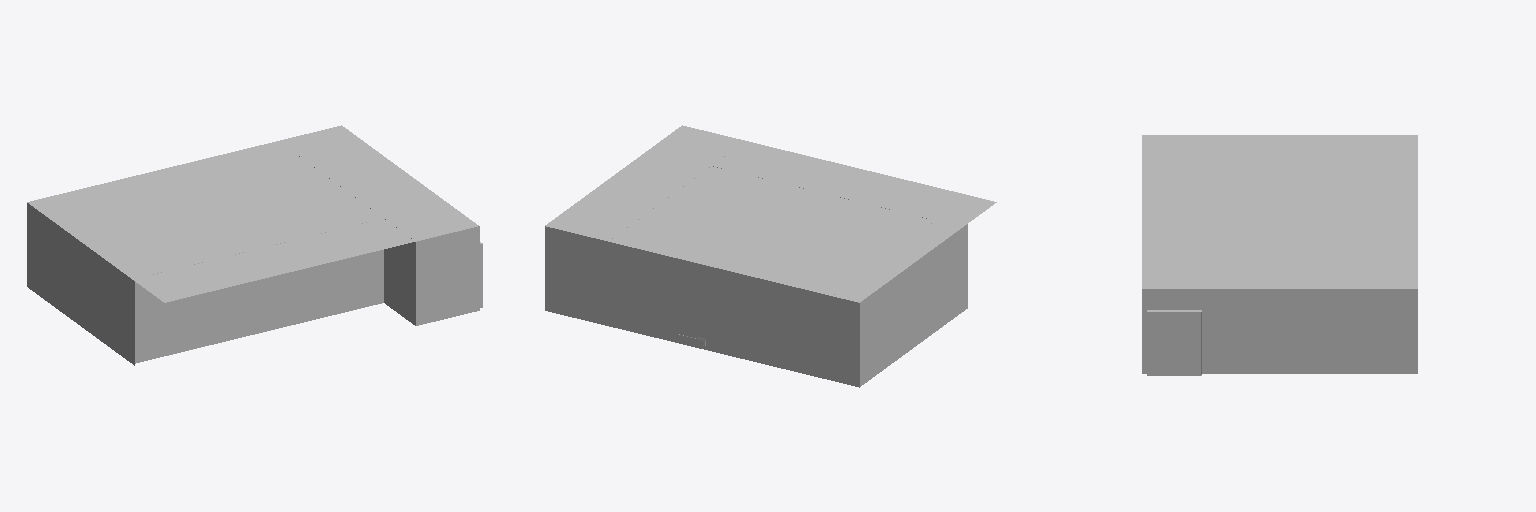
File: Room.obj
3 views of the same model, side by side, from view 1: azimuth 30°, elevation 25°; view 2: azimuth 150°, elevation 25°; view 3: azimuth 270°, elevation 25° (orthographic).
Visible parts, largest first — view 1: walls; view 2: walls; view 3: walls.
Part boxes in pixels (x1,y1,x2,y2): walls: (27,125,482,365); walls: (545,125,996,387); walls: (1142,135,1417,375).
Bounding box in the file's own units: 297 × 75.32 × 221.